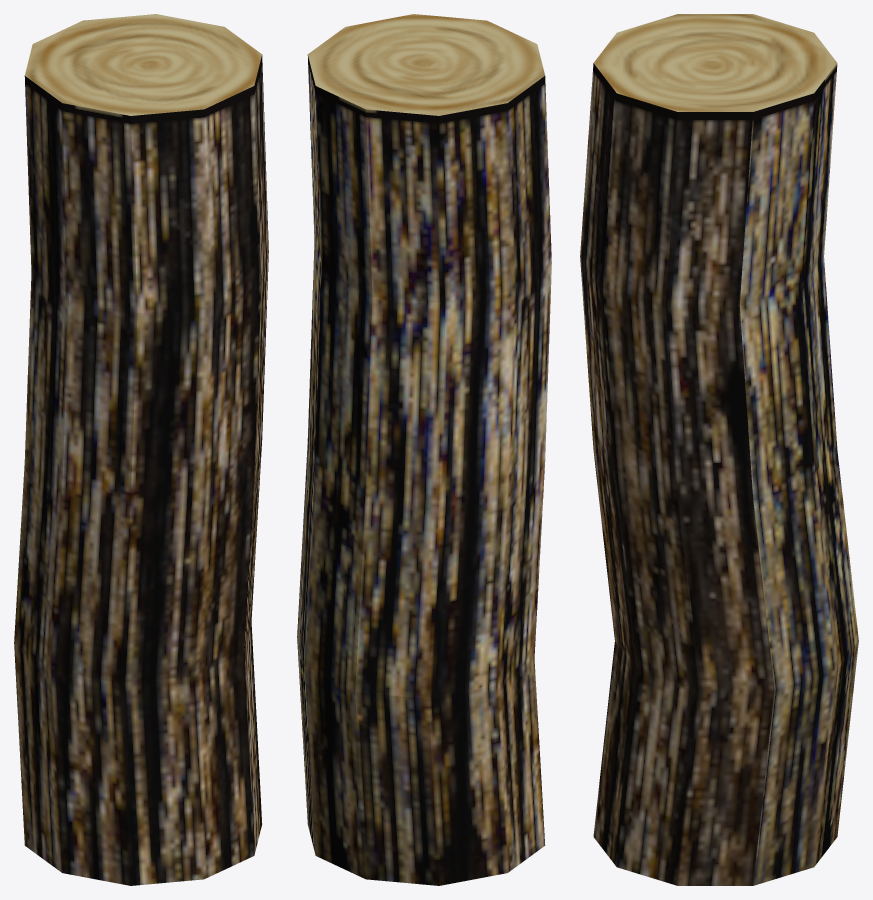
The model's file is WoodLog.fbx.
3 renders of one model, left to right at view 1: azimuth 30°, elevation 25°; view 2: azimuth 150°, elevation 25°; view 3: azimuth 270°, elevation 25°, orthographic.
Visible parts, largest first — view 1: Cylinder; view 2: Cylinder; view 3: Cylinder.
Boxes of the visible parts, box(x1,y1,x2,y2) form: Cylinder: box(14, 14, 268, 885); Cylinder: box(297, 14, 551, 885); Cylinder: box(580, 14, 858, 885).
Bounding box in the file's own units: 19.02 × 70 × 22.86.
